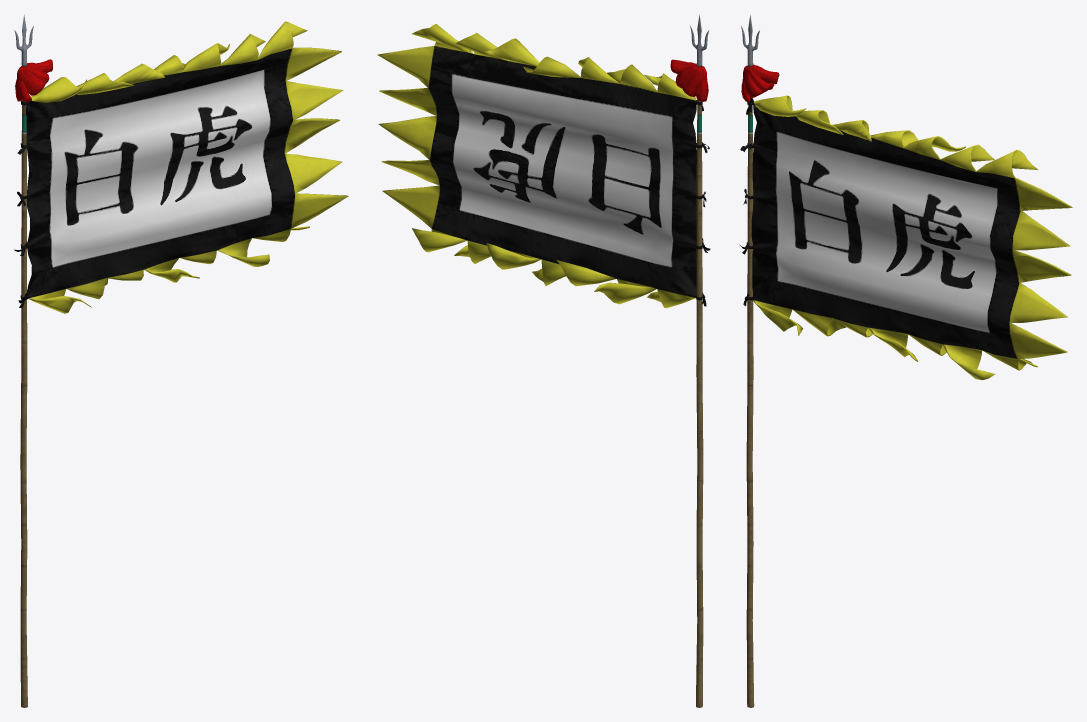
The model's file is SM_BaeghogiFlag.fbx.
The picture shows the model from 3 angles, left to right: view 1: azimuth 30°, elevation 25°; view 2: azimuth 150°, elevation 25°; view 3: azimuth 330°, elevation 25°; orthographic projection.
Parts seen in each view (by area): view 1: SM_BaeghogiFlag_LOD0; view 2: SM_BaeghogiFlag_LOD0; view 3: SM_BaeghogiFlag_LOD0.
Boxes of the visible parts, left/top/right/bottom form: SM_BaeghogiFlag_LOD0: left=14, top=14, right=348, bottom=707; SM_BaeghogiFlag_LOD0: left=377, top=14, right=710, bottom=707; SM_BaeghogiFlag_LOD0: left=739, top=14, right=1072, bottom=707.
Size of the model in its own units: 282 by 564 by 35.37.
Materials: 1 (1 with a texture image).
